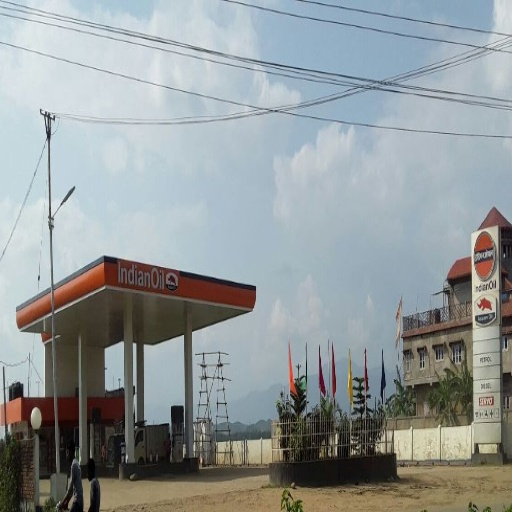roof: (15, 252, 254, 348)
